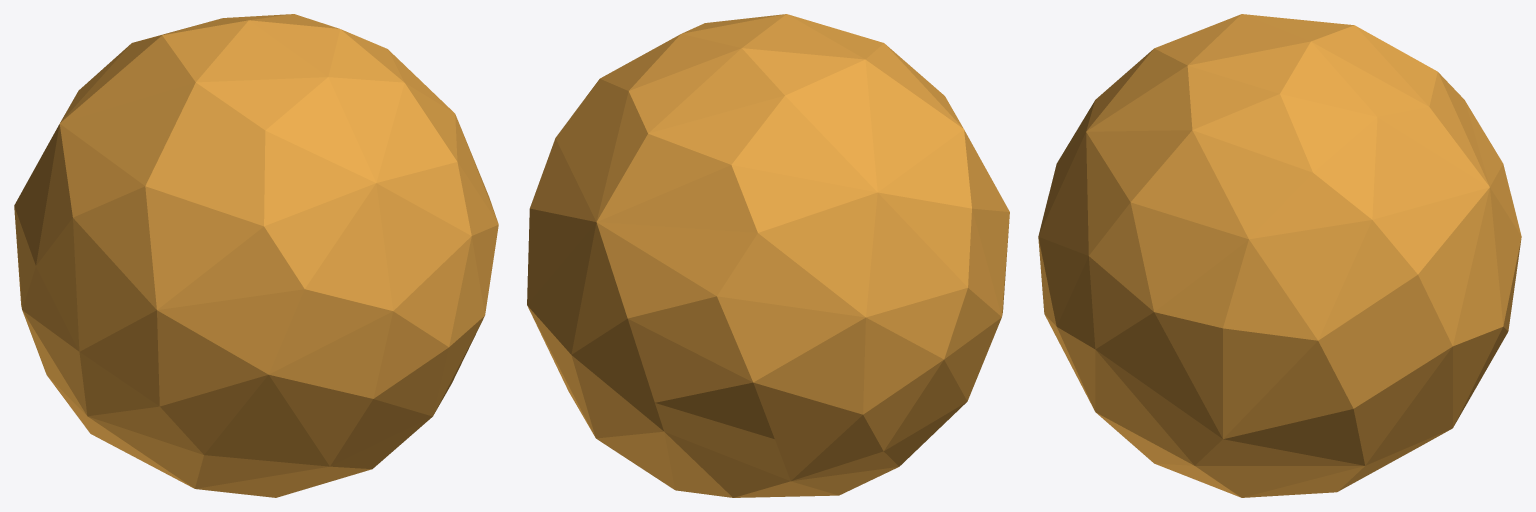
The model's file is planet-sea.fbx.
3 renders of one model, left to right at view 1: azimuth 30°, elevation 25°; view 2: azimuth 150°, elevation 25°; view 3: azimuth 270°, elevation 25°, orthographic.
Visible parts, largest first — view 1: planet-sea; view 2: planet-sea; view 3: planet-sea.
Boxes of the visible parts, box(x1,y1,x2,y2) form: planet-sea: box(14, 14, 498, 497); planet-sea: box(527, 14, 1009, 497); planet-sea: box(1038, 14, 1521, 497).
Bounding box in the file's own units: 9.99 × 9.99 × 10.
